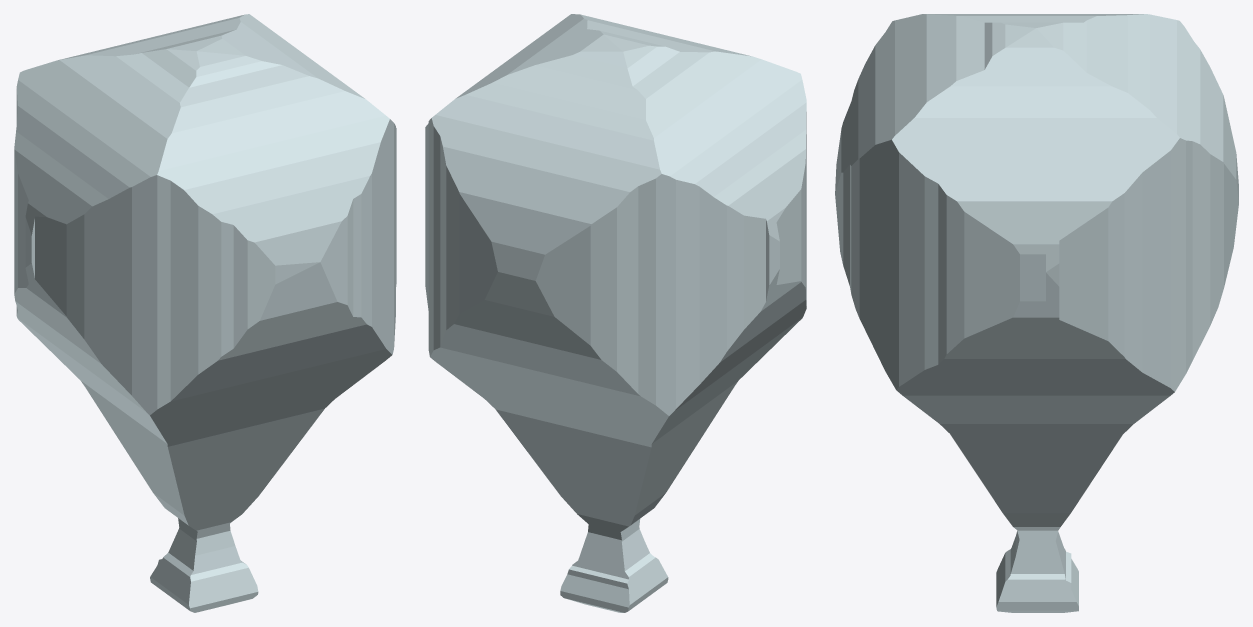
The model's file is BALL.glb.
3 views of the same model, side by side, from view 1: azimuth 30°, elevation 25°; view 2: azimuth 150°, elevation 25°; view 3: azimuth 270°, elevation 25° (orthographic). The views are drawn at different scales.
Visible parts, largest first — view 1: Aircraft visual hull; view 2: Aircraft visual hull; view 3: Aircraft visual hull.
Boxes of the visible parts, x1,y1,x2,y2 form: Aircraft visual hull: [14, 14, 396, 612]; Aircraft visual hull: [425, 14, 806, 612]; Aircraft visual hull: [835, 14, 1238, 612].
Size of the model in its own units: 16 by 25 by 16.
